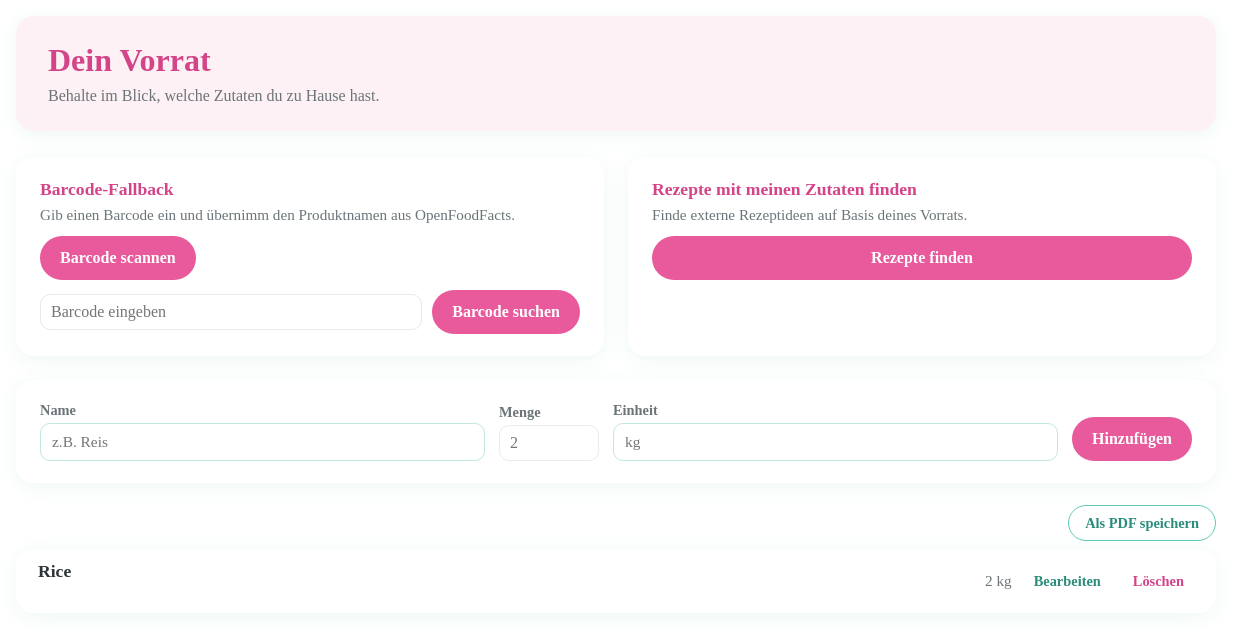
Test: PantryView › shows not found message when delete returns 404
The image size is (1233, 631).
Click the button with class "delete-btn" at (1158, 581), box [1123,561,1194,601]
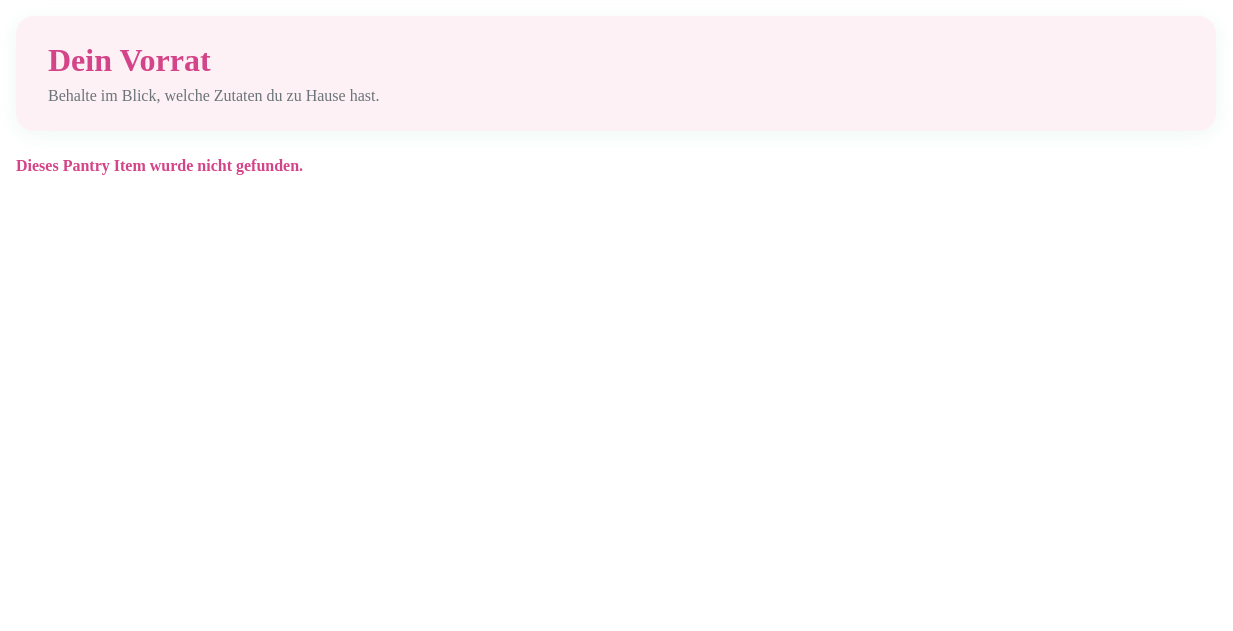
Expected: the text "Dieses Pantry Item wurde nicht gefunden." is shown, [16,157,303,174]
